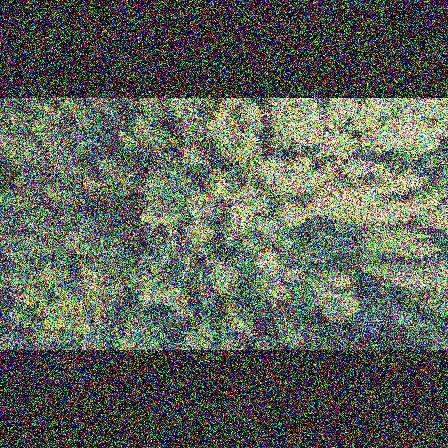Dead: (98, 99, 129, 135)
